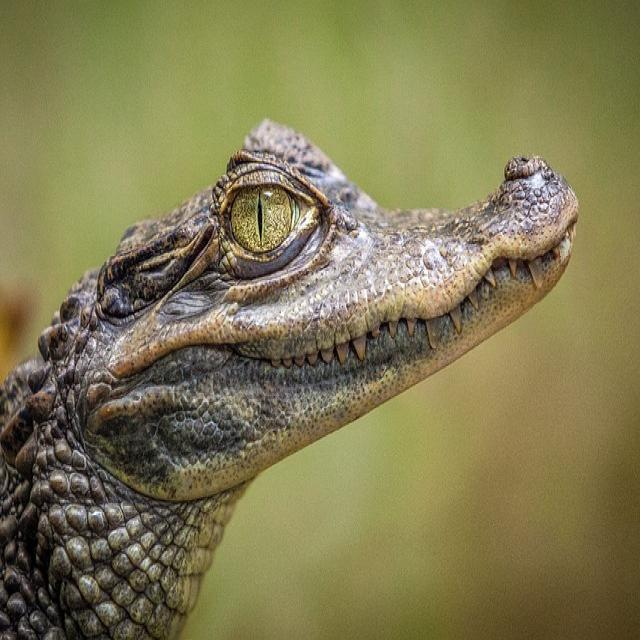Carnivorous: (0, 119, 581, 640)
